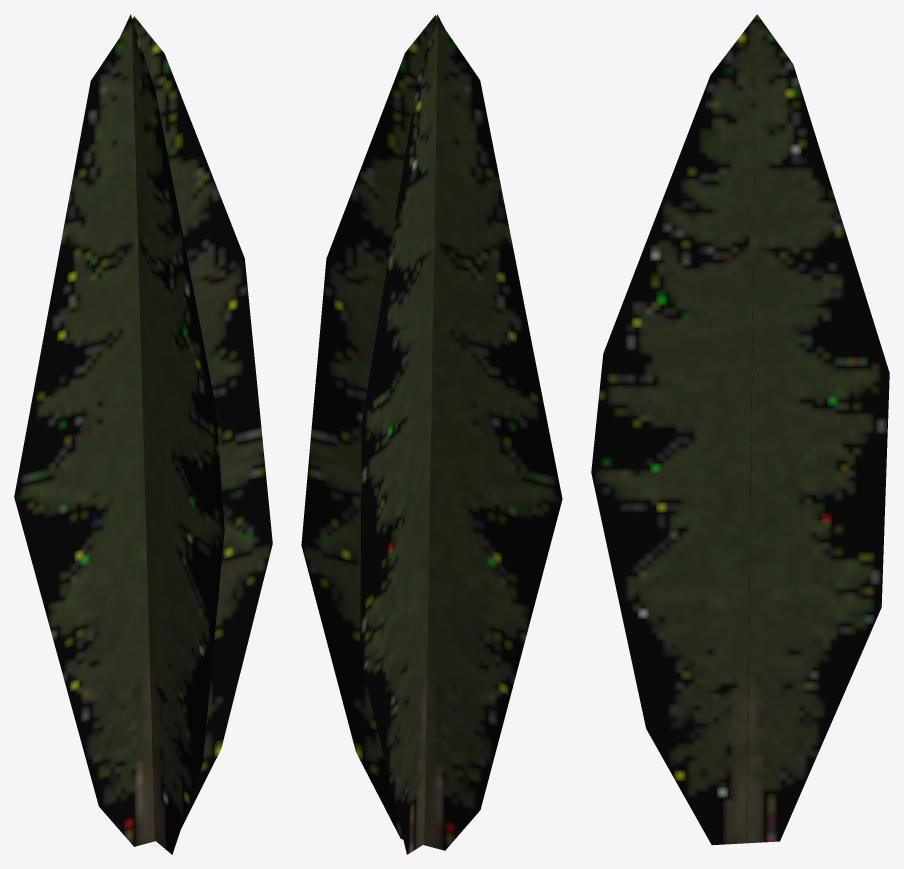
Rendered from spruce-med-5-cross.glb.
3 renders of one model, left to right at view 1: azimuth 30°, elevation 25°; view 2: azimuth 150°, elevation 25°; view 3: azimuth 270°, elevation 25°, orthographic. The views are drawn at different scales.
Visible parts, largest first — view 1: world; view 2: world; view 3: world.
Boxes of the visible parts, x1,y1,x2,y2 form: world: (14, 14, 272, 854); world: (301, 14, 562, 854); world: (591, 14, 889, 845).
Size of the model in its own units: 7.05 by 21.64 by 7.12.
Materials: 1 (1 with a texture image).
